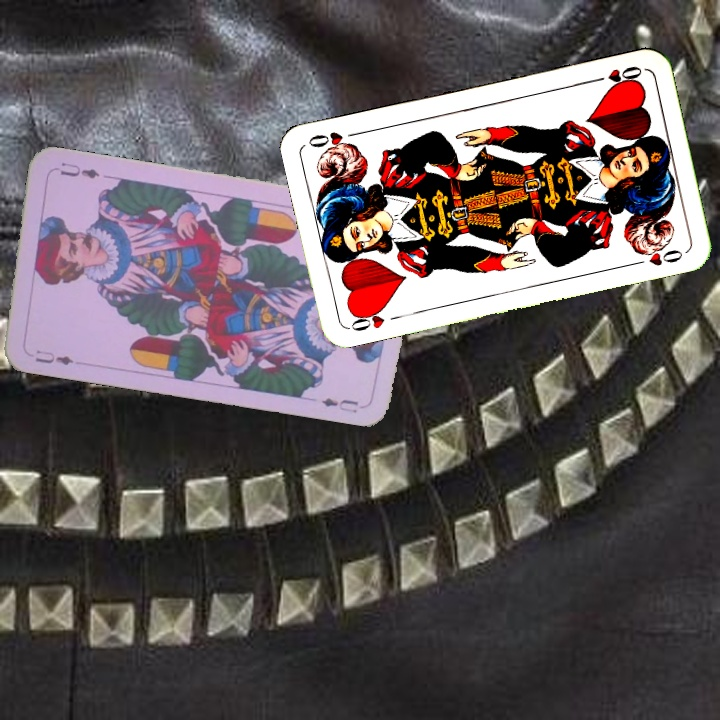EU: (31, 346, 76, 368)
HO: (587, 62, 645, 90), (345, 303, 388, 334)
